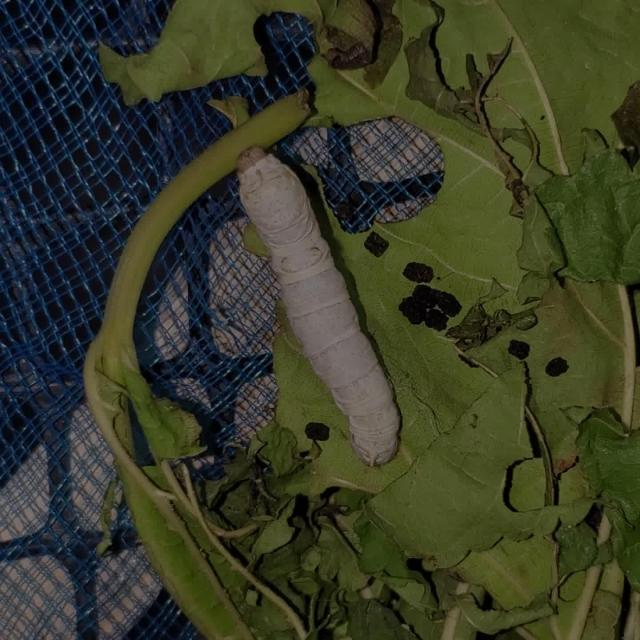Healthy: (200, 135, 430, 493)
